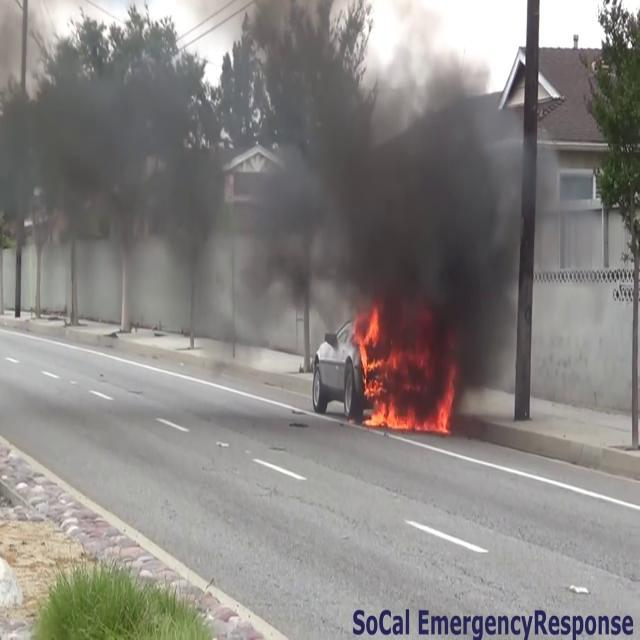Fire: (352, 304, 454, 438)
Smoke: (3, 0, 539, 328)
